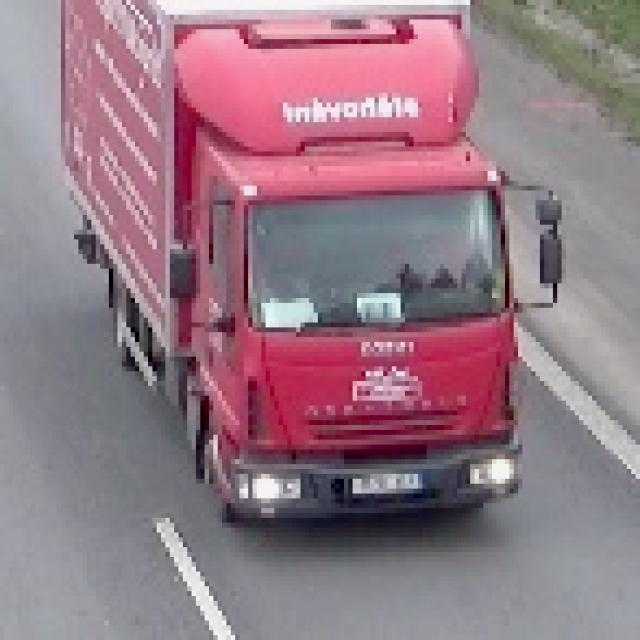truck: (58, 1, 563, 529)
